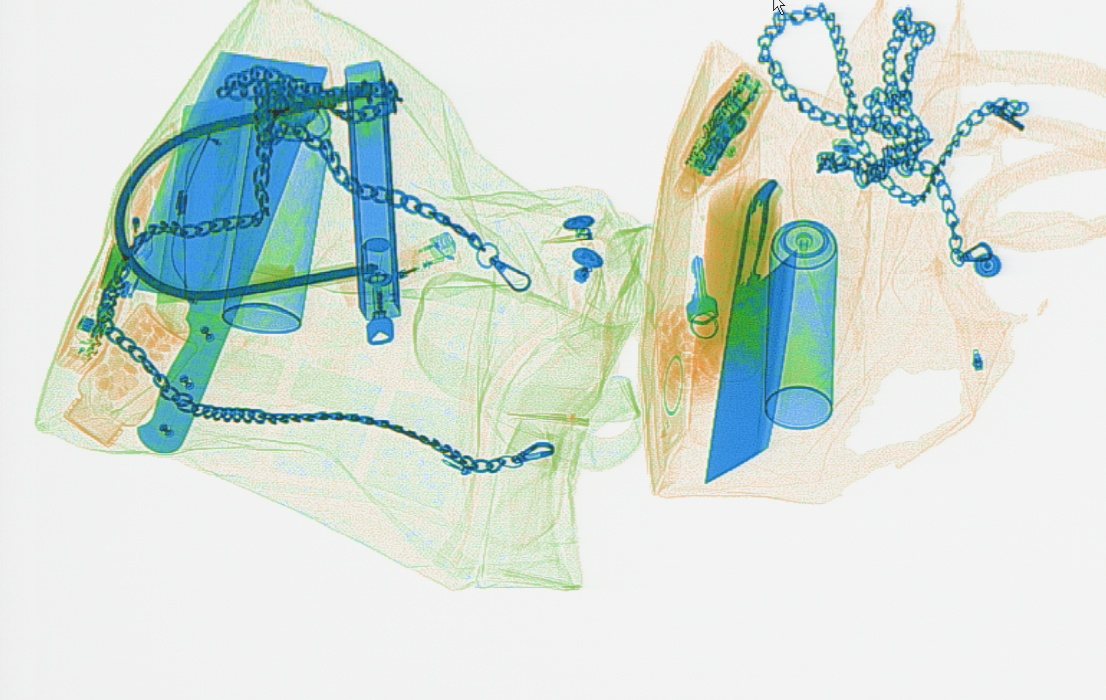knife: (117, 47, 331, 458), (700, 175, 799, 485)
lighter: (336, 230, 457, 309), (123, 158, 156, 270)
pressure: (216, 45, 335, 336), (758, 217, 838, 431)
